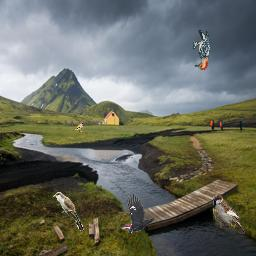Cuckoo: (53, 192, 84, 232)
Sparrow: (213, 194, 245, 234), (72, 122, 83, 132)
Woodpecker: (121, 194, 155, 234), (193, 30, 210, 70)
